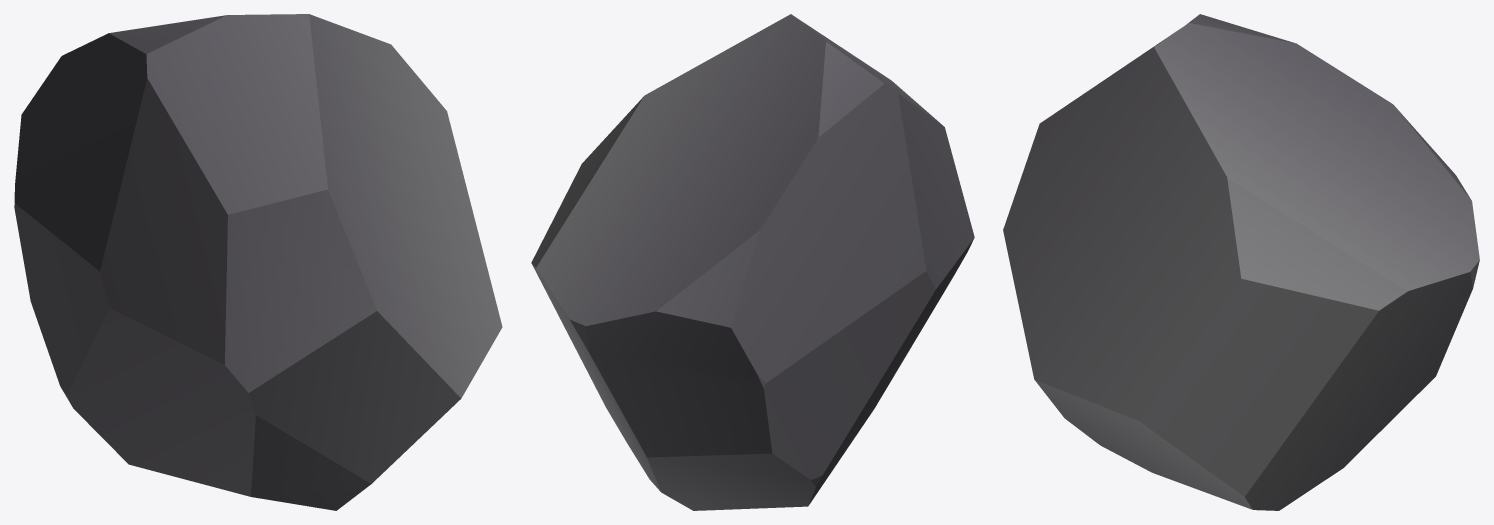
Rendered from RockBroke.fbx.
The picture shows the model from 3 angles, left to right: view 1: azimuth 30°, elevation 25°; view 2: azimuth 150°, elevation 25°; view 3: azimuth 270°, elevation 25°; orthographic projection. The views are drawn at different scales.
Parts seen in each view (by area): view 1: Rock_fracturepart10, Rock_fracturepart17, Rock_fracturepart27, Rock_fracturepart39, Rock_fracturepart13, Rock_fracturepart29, Rock_fracturepart14, Rock_fracturepart24, Rock_fracturepart15, Rock_fracturepart48, Rock_fracturepart36, Rock_fracturepart25 (+14 smaller); view 2: Rock_fracturepart48, Rock_fracturepart39, Rock_fracturepart28, Rock_fracturepart35, Rock_fracturepart6, Rock_fracturepart23, Rock_fracturepart42, Rock_fracturepart38, Rock_fracturepart15, Rock_fracturepart44, Rock_fracturepart22, Rock_fracturepart11 (+9 smaller); view 3: Rock_fracturepart17, Rock_fracturepart23, Rock_fracturepart28, Rock_fracturepart44, Rock_fracturepart37, Rock_fracturepart16, Rock_fracturepart25, Rock_fracturepart7, Rock_fracturepart19, Rock_fracturepart5, Rock_fracturepart2, Rock_fracturepart42 (+13 smaller).
Boxes of the visible parts, x1=… form: Rock_fracturepart10: x1=169, y1=214, x2=359, y2=442; Rock_fracturepart17: x1=314, y1=201, x2=457, y2=420; Rock_fracturepart27: x1=198, y1=52, x2=344, y2=227; Rock_fracturepart39: x1=79, y1=29, x2=200, y2=188; Rock_fracturepart13: x1=137, y1=65, x2=232, y2=276; Rock_fracturepart29: x1=216, y1=14, x2=354, y2=219; Rock_fracturepart14: x1=84, y1=273, x2=260, y2=452; Rock_fracturepart24: x1=257, y1=317, x2=473, y2=484; Rock_fracturepart15: x1=81, y1=172, x2=173, y2=309; Rock_fracturepart48: x1=14, y1=47, x2=80, y2=267; Rock_fracturepart36: x1=194, y1=439, x2=370, y2=510; Rock_fracturepart25: x1=326, y1=30, x2=401, y2=206; Rock_fracturepart48: x1=601, y1=192, x2=820, y2=421; Rock_fracturepart39: x1=780, y1=65, x2=918, y2=253; Rock_fracturepart28: x1=726, y1=16, x2=858, y2=188; Rock_fracturepart35: x1=587, y1=332, x2=782, y2=476; Rock_fracturepart6: x1=786, y1=251, x2=895, y2=412; Rock_fracturepart23: x1=531, y1=194, x2=629, y2=359; Rock_fracturepart42: x1=665, y1=50, x2=733, y2=188; Rock_fracturepart38: x1=740, y1=393, x2=862, y2=498; Rock_fracturepart15: x1=848, y1=182, x2=947, y2=302; Rock_fracturepart44: x1=575, y1=81, x2=669, y2=202; Rock_fracturepart22: x1=600, y1=166, x2=706, y2=255; Rock_fracturepart11: x1=622, y1=185, x2=769, y2=287; Rock_fracturepart17: x1=1003, y1=179, x2=1114, y2=371; Rock_fracturepart23: x1=1320, y1=213, x2=1479, y2=332; Rock_fracturepart28: x1=1155, y1=18, x2=1347, y2=119; Rock_fracturepart44: x1=1206, y1=155, x2=1342, y2=275; Rock_fracturepart37: x1=1070, y1=366, x2=1260, y2=510; Rock_fracturepart16: x1=1241, y1=262, x2=1373, y2=373; Rock_fracturepart25: x1=1089, y1=78, x2=1194, y2=236; Rock_fracturepart7: x1=1260, y1=344, x2=1412, y2=510; Rock_fracturepart19: x1=1163, y1=359, x2=1285, y2=502; Rock_fracturepart5: x1=1119, y1=238, x2=1267, y2=342; Rock_fracturepart2: x1=1112, y1=152, x2=1227, y2=296; Rock_fracturepart42: x1=1185, y1=104, x2=1341, y2=171.
Size of the model in its own units: 320 by 429 by 418.
Materials: 1 (1 with a texture image).
